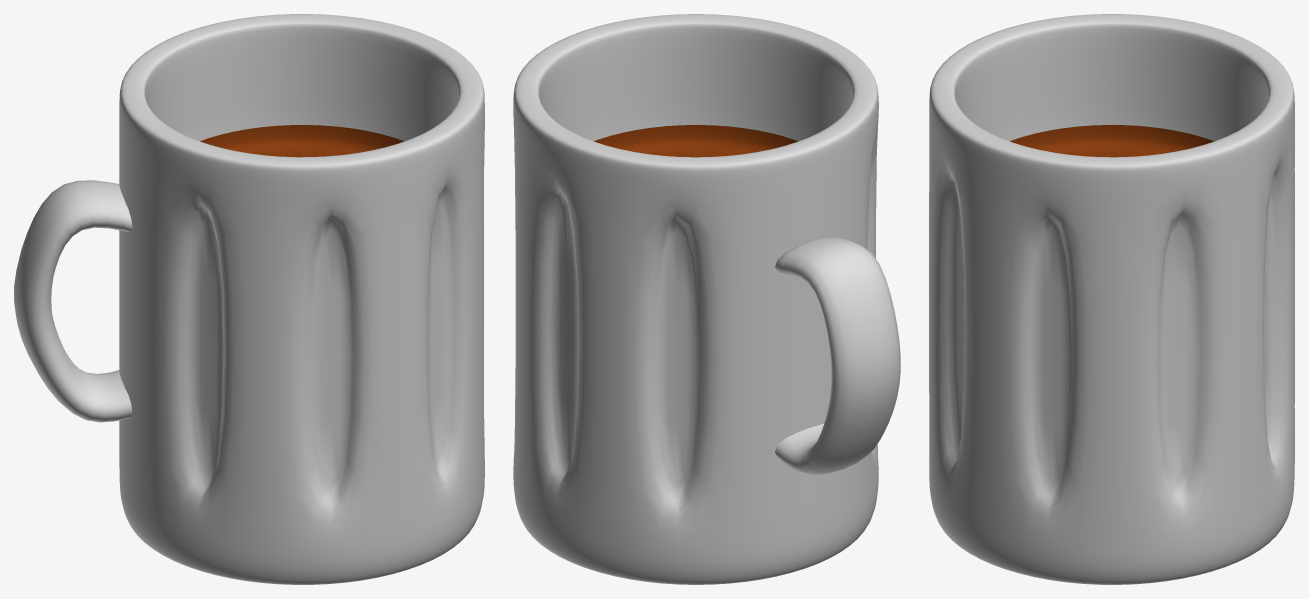
File: Beer full.fbx
3 views of the same model, side by side, from view 1: azimuth 30°, elevation 25°; view 2: azimuth 150°, elevation 25°; view 3: azimuth 270°, elevation 25° (orthographic).
Visible parts, largest first — view 1: Bierkrug; view 2: Bierkrug; view 3: Bierkrug.
Part boxes in pixels (left/top/right/bottom): Bierkrug: left=14, top=14, right=484, bottom=584; Bierkrug: left=513, top=14, right=900, bottom=584; Bierkrug: left=929, top=14, right=1294, bottom=584.
Bounding box in the file's own units: 14.69 × 14.96 × 11.69.
